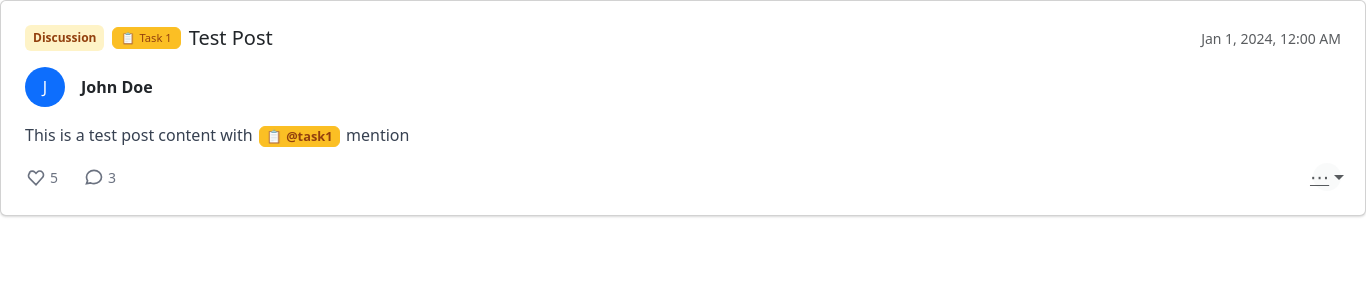
shows edit and delete options for post owner
This screenshot has width=1366, height=292.
Click the dropdown toggle (⋯)
Step 1. Click the button "⋯" → (1327, 177), box [1313, 163, 1341, 191]
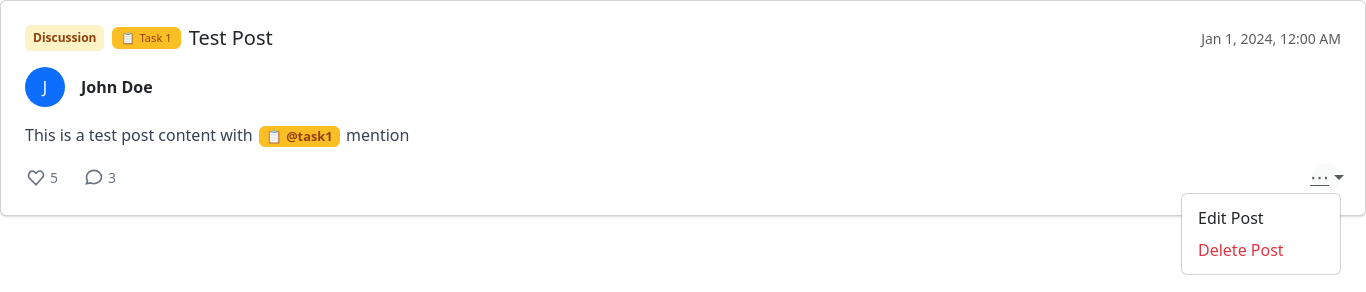
Now the button "Edit Post" is shown, box [1198, 207, 1264, 229]
Now the button "Delete Post" is shown, box [1198, 239, 1284, 261]
